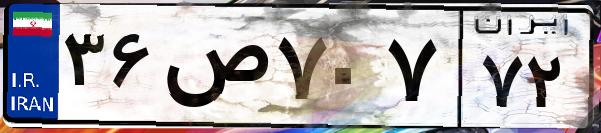0: (330, 28, 385, 110)
2: (525, 38, 570, 115)
3: (57, 26, 110, 100)
6: (110, 28, 158, 98)
7: (270, 28, 330, 110), (385, 28, 445, 110), (475, 38, 525, 113)
ص: (158, 20, 270, 120)
